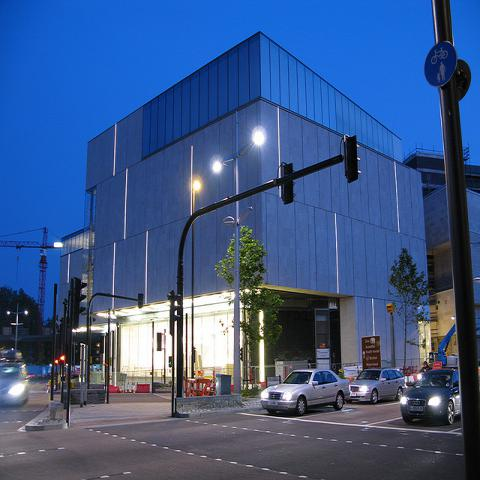car: (261, 370, 352, 415), (399, 369, 462, 426), (344, 368, 408, 405), (0, 360, 32, 407), (71, 373, 80, 379)
